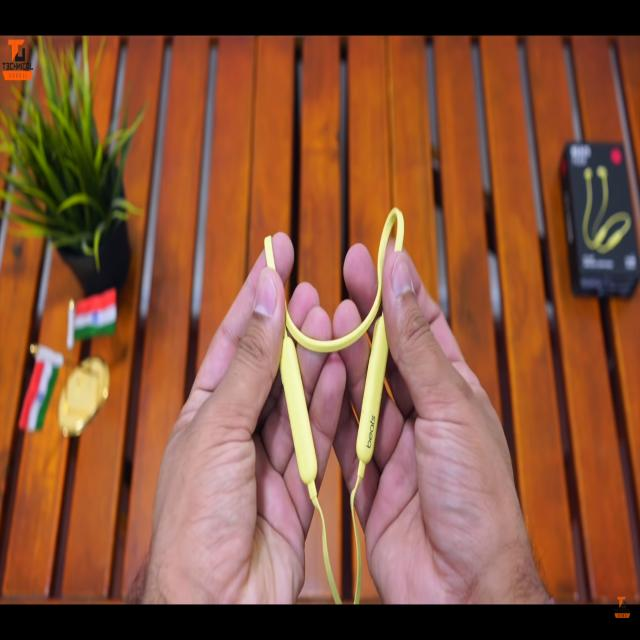Neckband: (263, 203, 406, 606)
